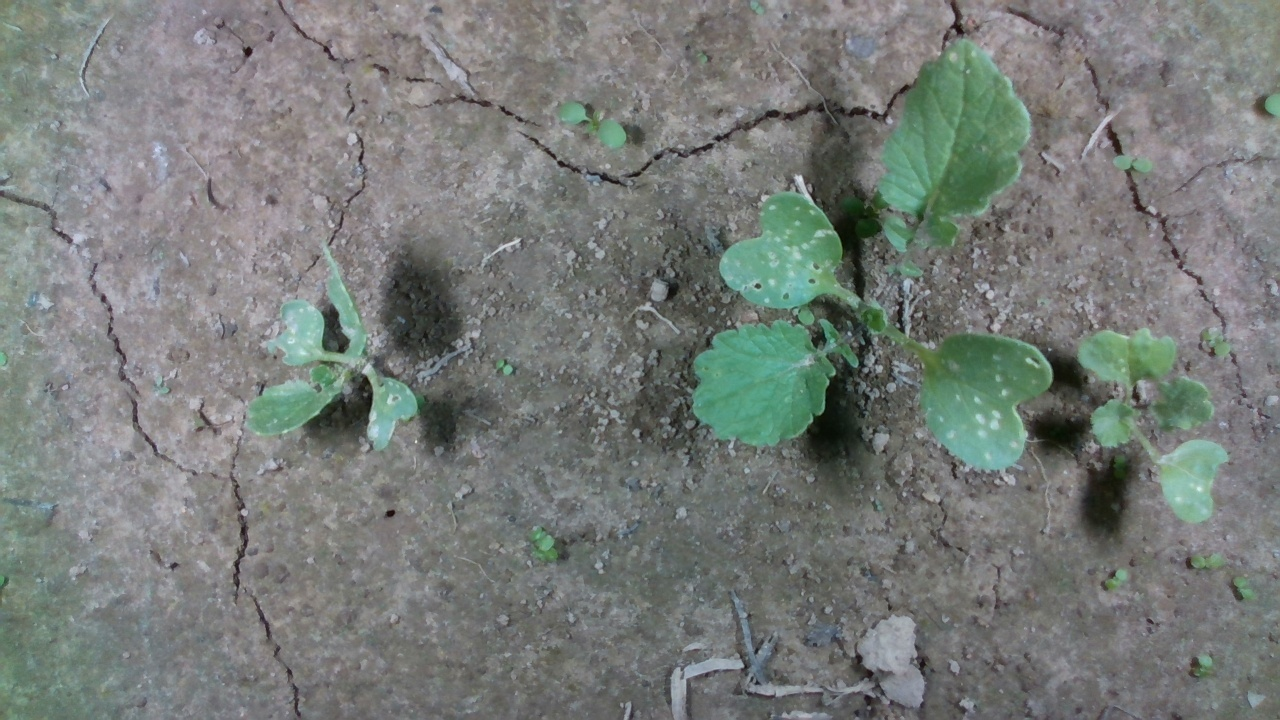weed: (550, 95, 630, 162), (1198, 321, 1237, 372), (1108, 148, 1155, 180), (1187, 648, 1225, 684), (530, 523, 558, 569), (1105, 560, 1134, 596), (487, 356, 519, 385), (1192, 547, 1223, 576), (1234, 566, 1253, 606)
